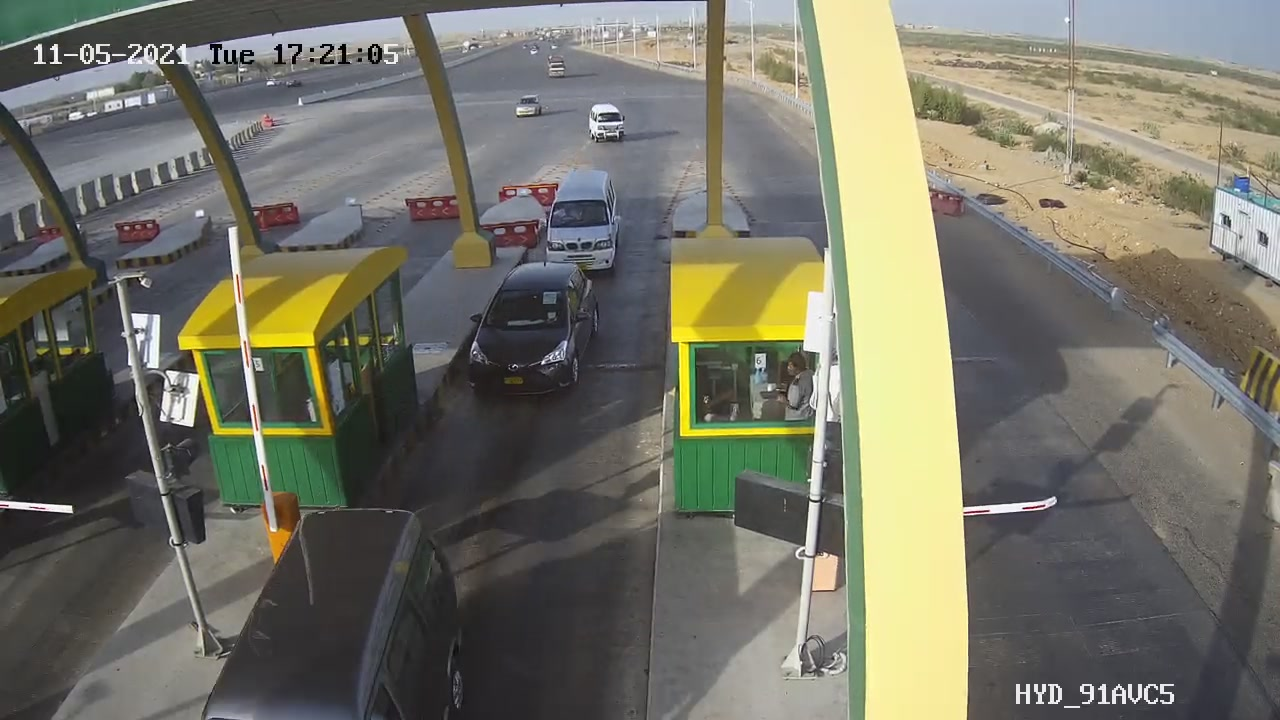F1: (453, 249, 613, 405)
